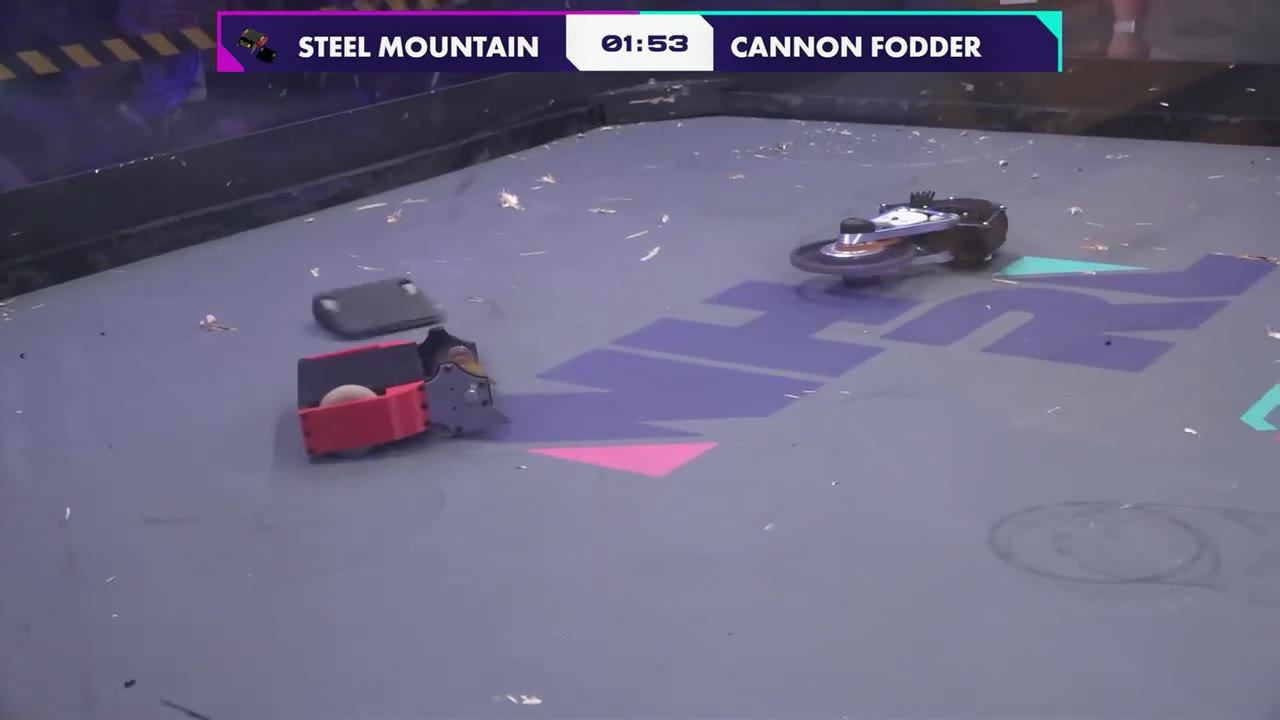combatbot: (295, 323, 512, 464), (793, 191, 1010, 294)
minibot: (310, 276, 444, 341)
